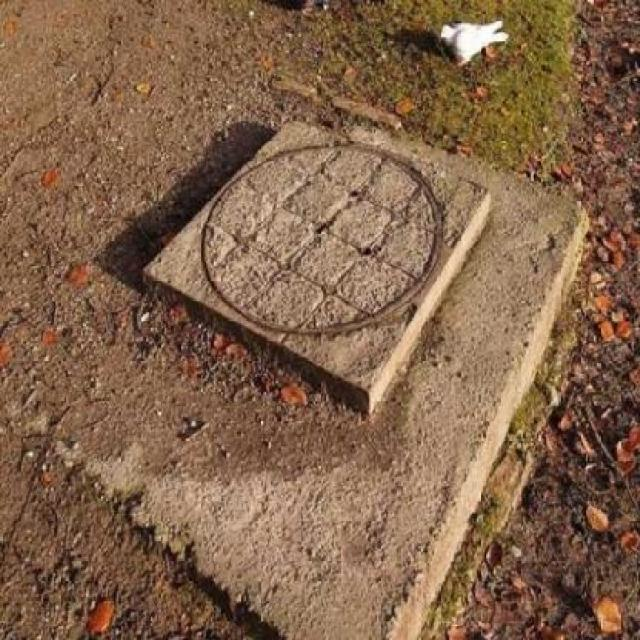Manhole: (184, 136, 463, 342)
